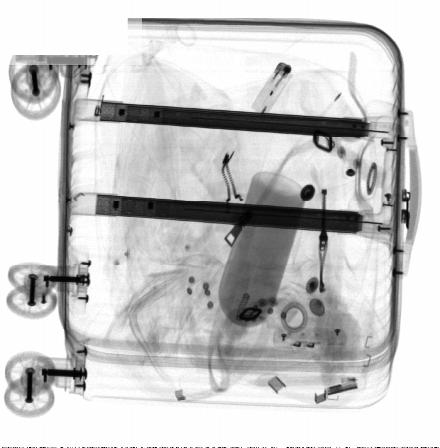Lighter: (251, 62, 293, 117)
